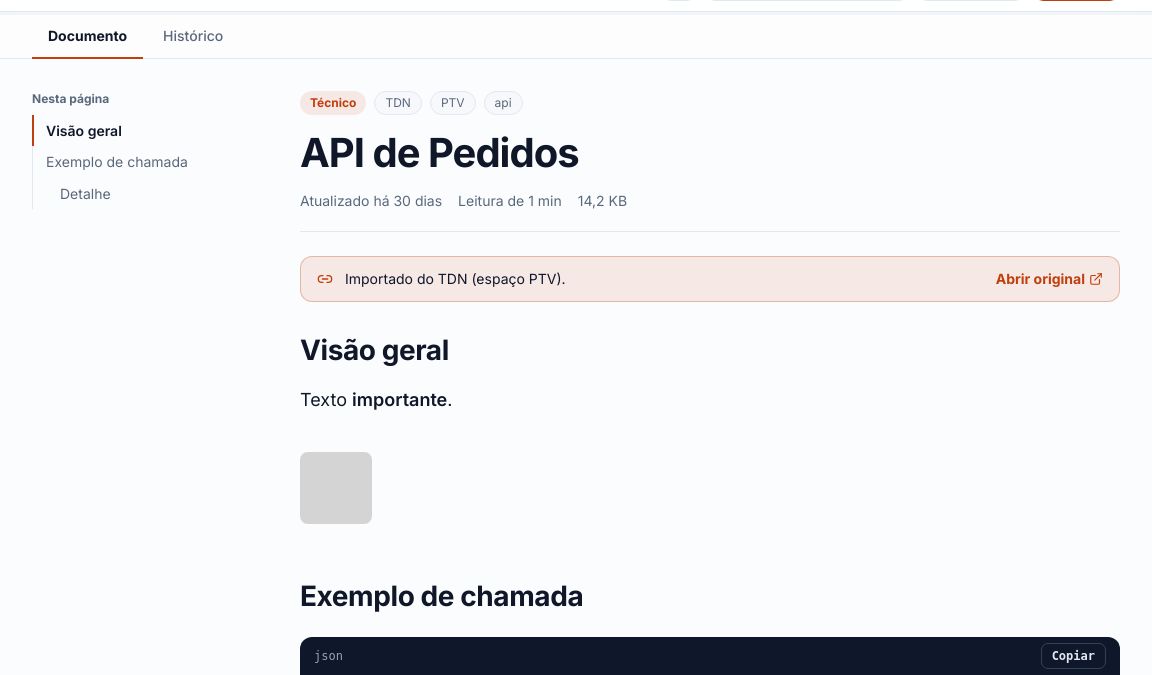
Test case: ArticleReader › bloco de código ganha botão Copiar que copia só o texto do código
The width and height of the screenshot is (1152, 675).
Click the button "Copiar" at point(1073, 656), box [1041,644,1106,670]
(page scrolled)
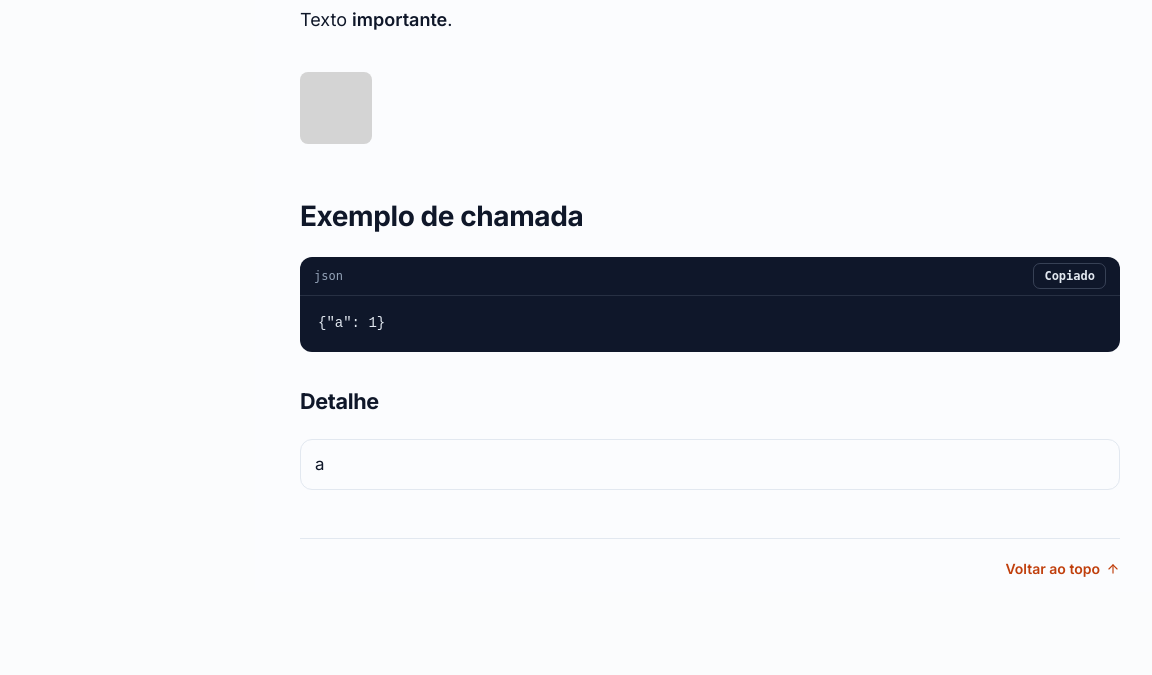
Check: the table is shown, box [301,440,1119,489]
Check: the button "Copiado" is shown, box [1033,264,1106,290]
